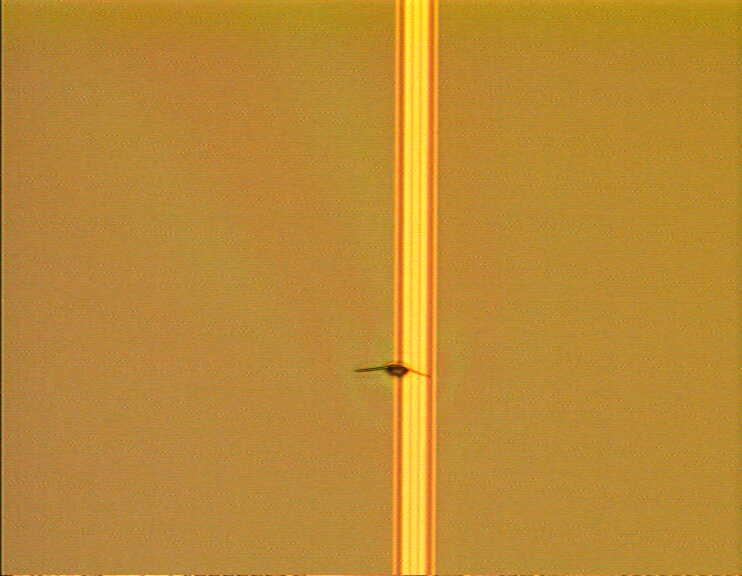PIQ PARTICLE: (351, 362, 435, 384)
